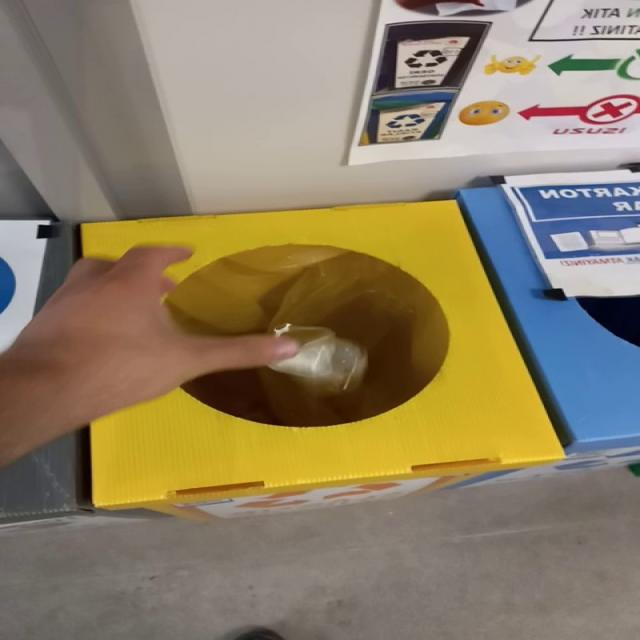plastic: (268, 324, 368, 396)
